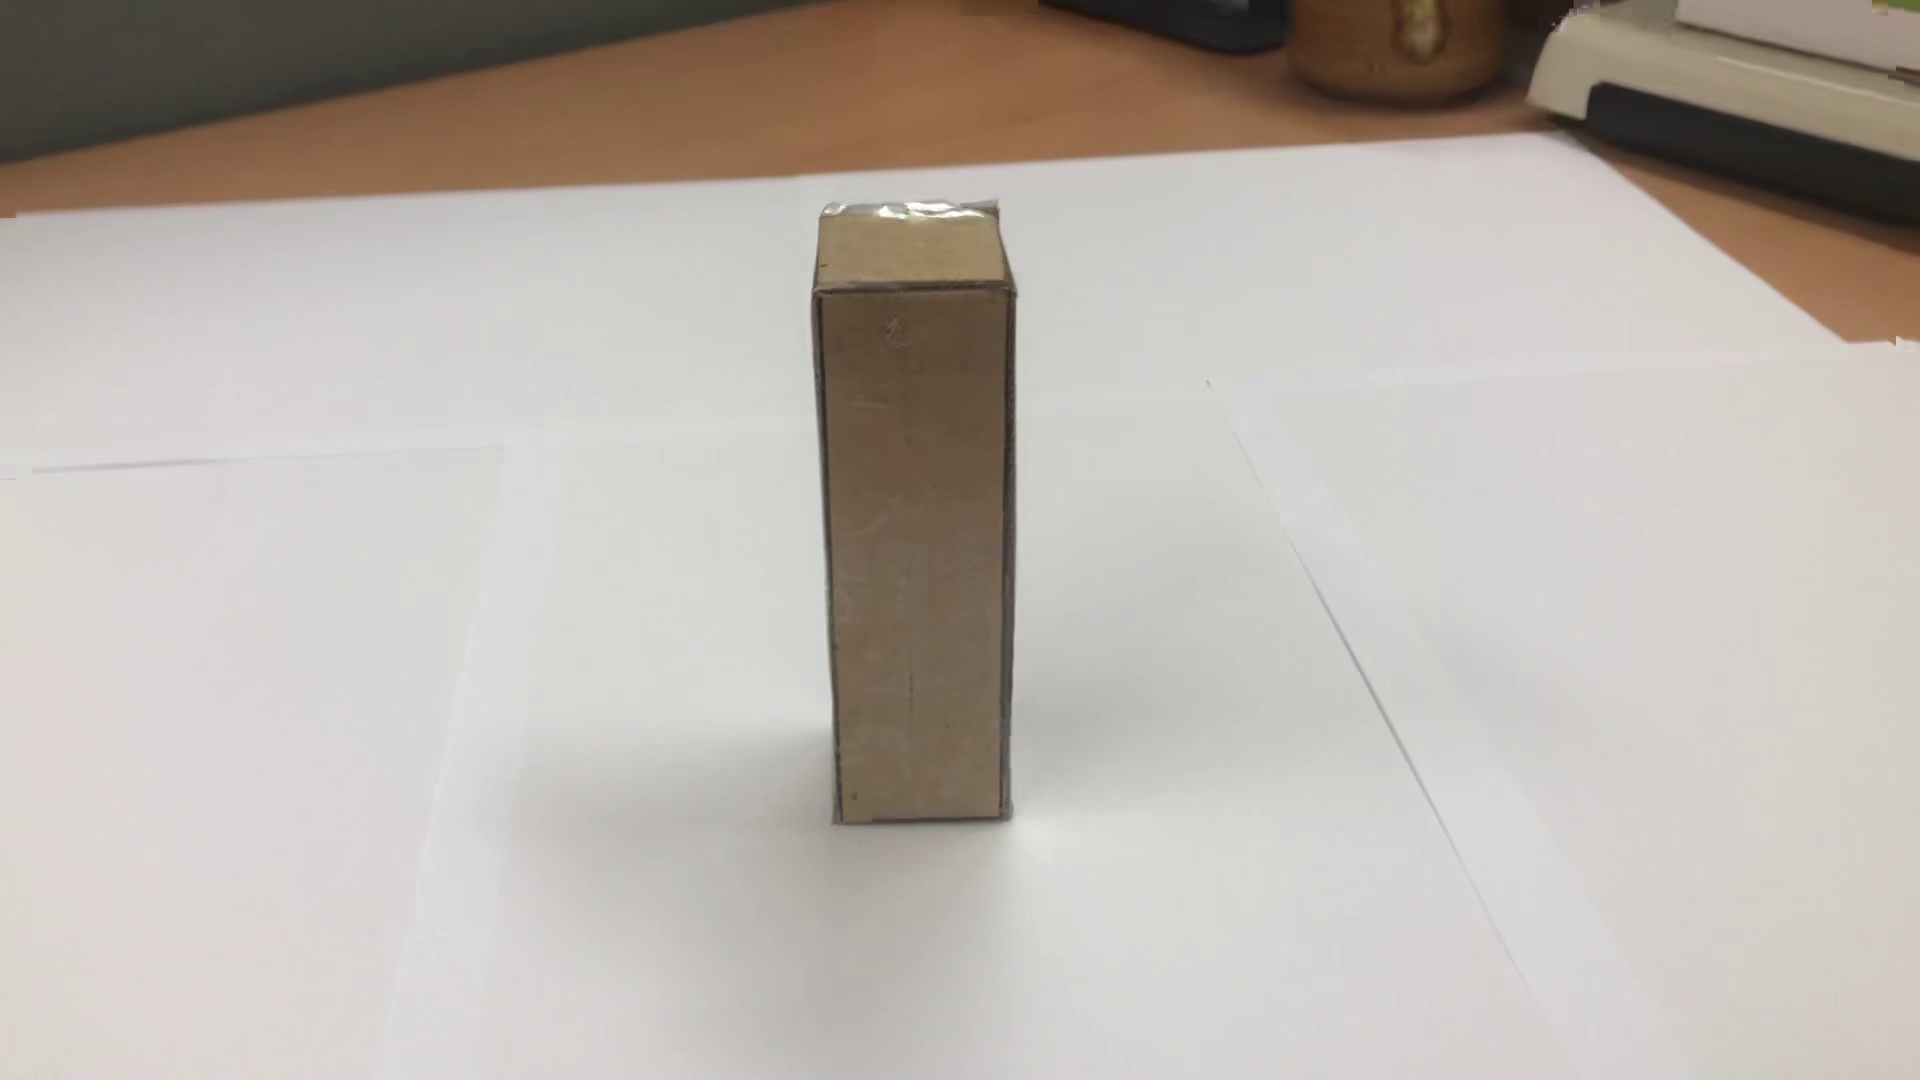box: (789, 185, 1055, 835)
